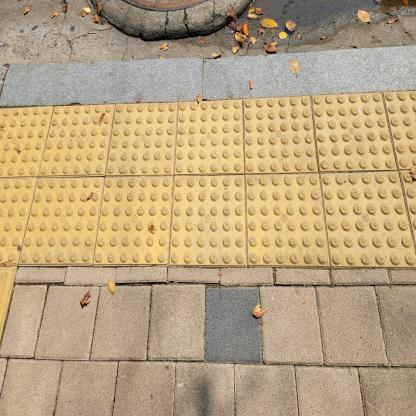podotacti: (0, 81, 415, 275)
